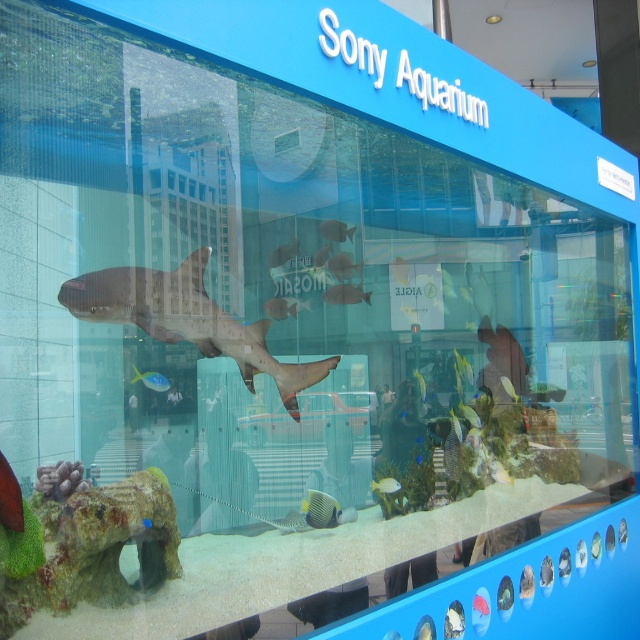Shark: (61, 228, 334, 427)
